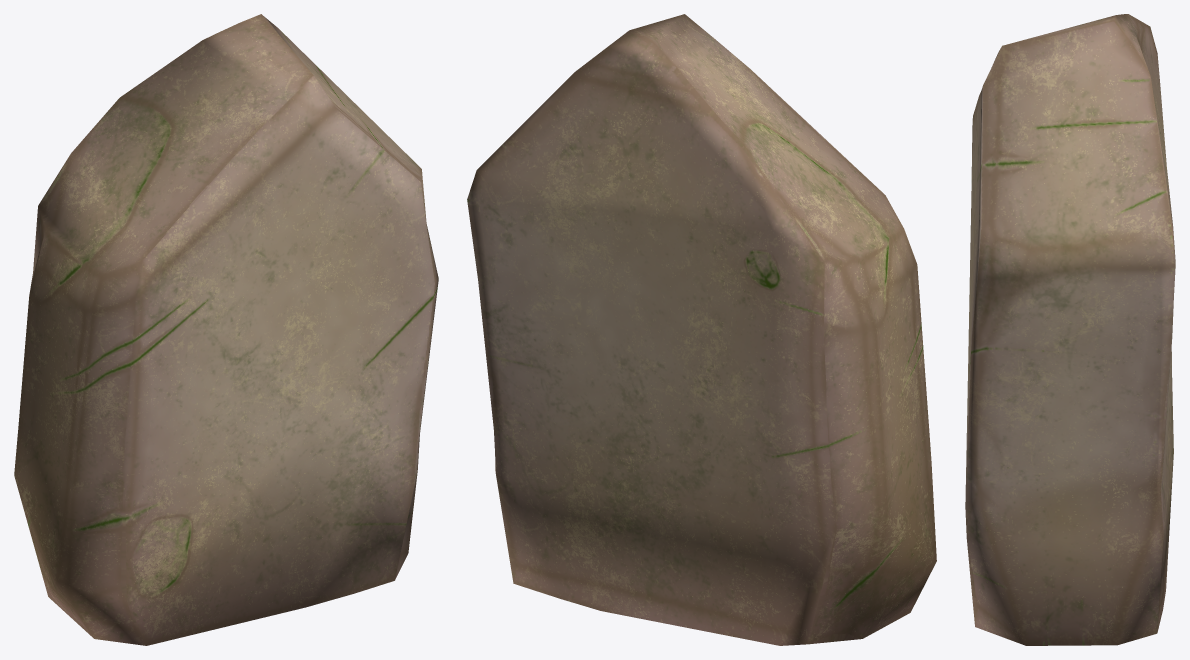
The model's file is Rune02_low_02.fbx.
3 renders of one model, left to right at view 1: azimuth 30°, elevation 25°; view 2: azimuth 150°, elevation 25°; view 3: azimuth 270°, elevation 25°, orthographic. The views are drawn at different scales.
Parts seen in each view (by area): view 1: Rune02_low_02; view 2: Rune02_low_02; view 3: Rune02_low_02.
Part boxes in pixels (x1,y1,x2,y2): Rune02_low_02: (14,14,438,645); Rune02_low_02: (467,14,936,645); Rune02_low_02: (965,14,1175,645).
Bounding box in the file's own units: 1.79 × 2.47 × 0.8188.
1 material, 1 textured.
